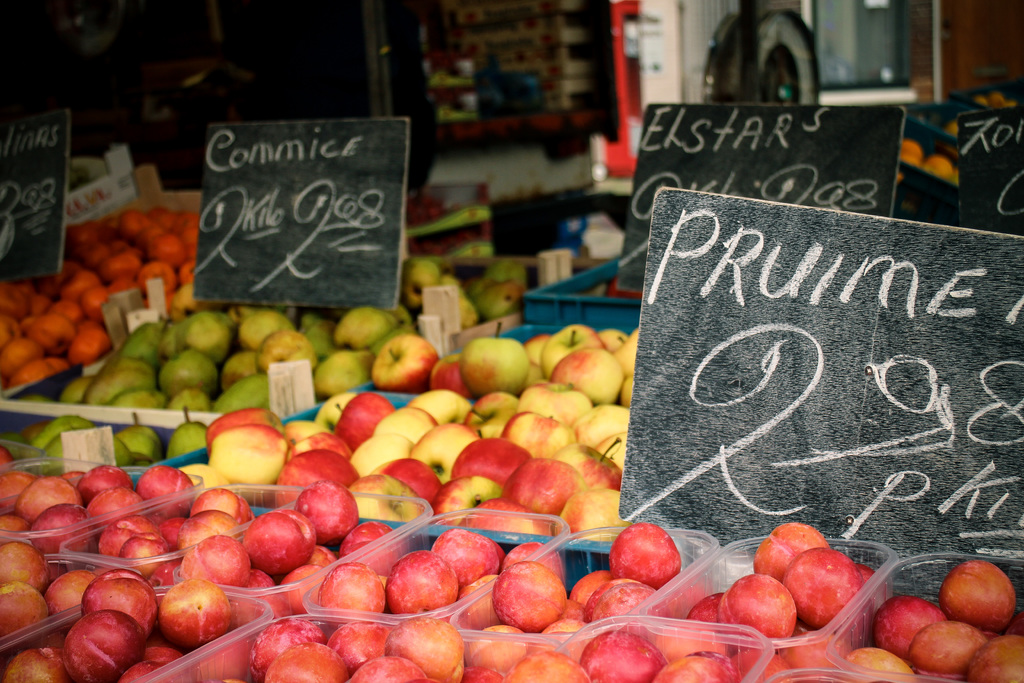Apple: (0, 256, 1022, 682), (230, 513, 302, 590)
